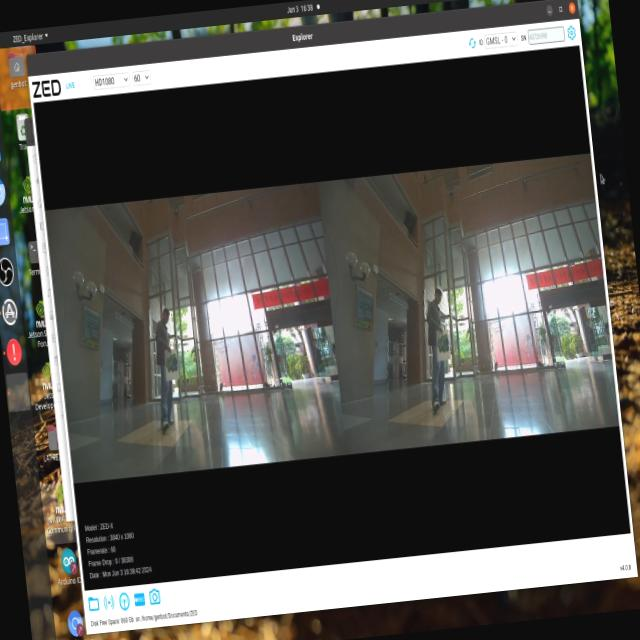green: (162, 345, 177, 377), (438, 332, 451, 356)
